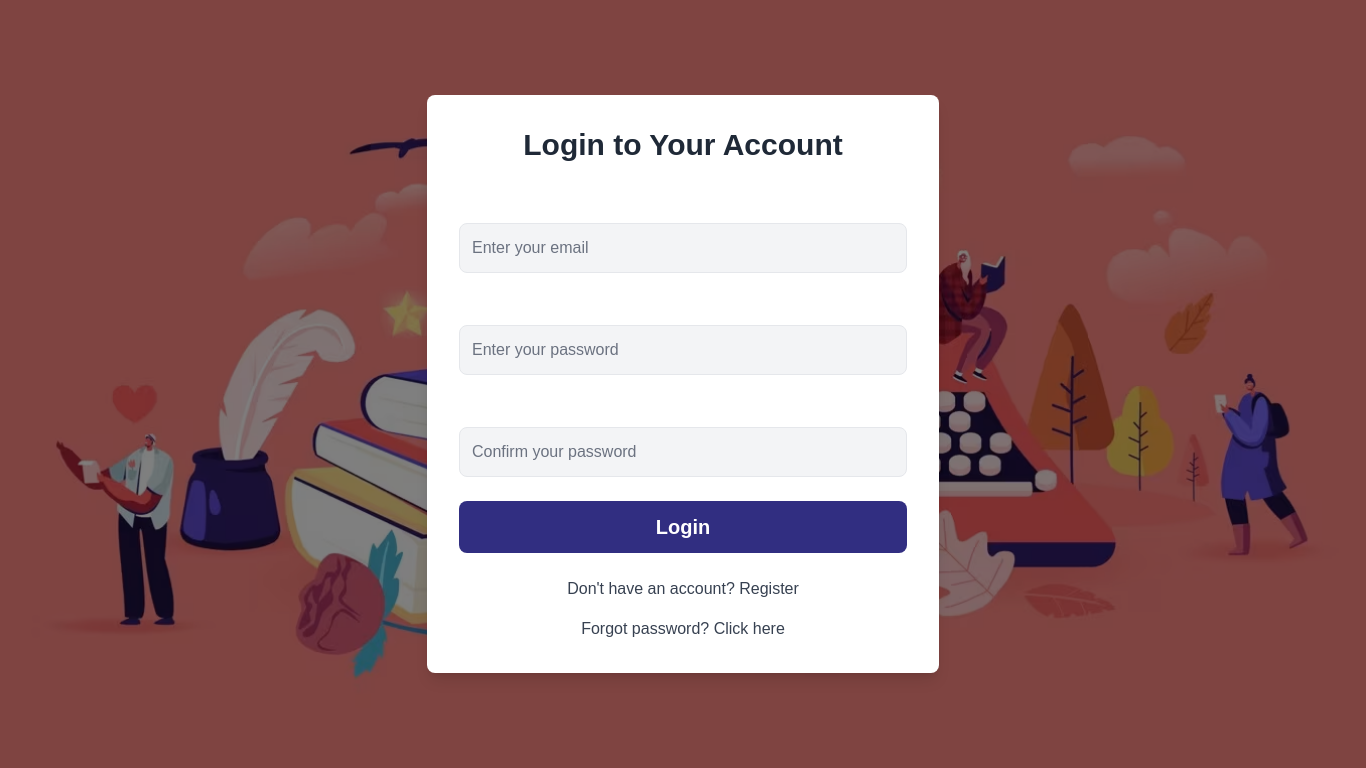
Test: LoginPage › should handle successful login
Type "test@example.com" into the field labelled "Email" at (683, 248), box [459,223,907,273]
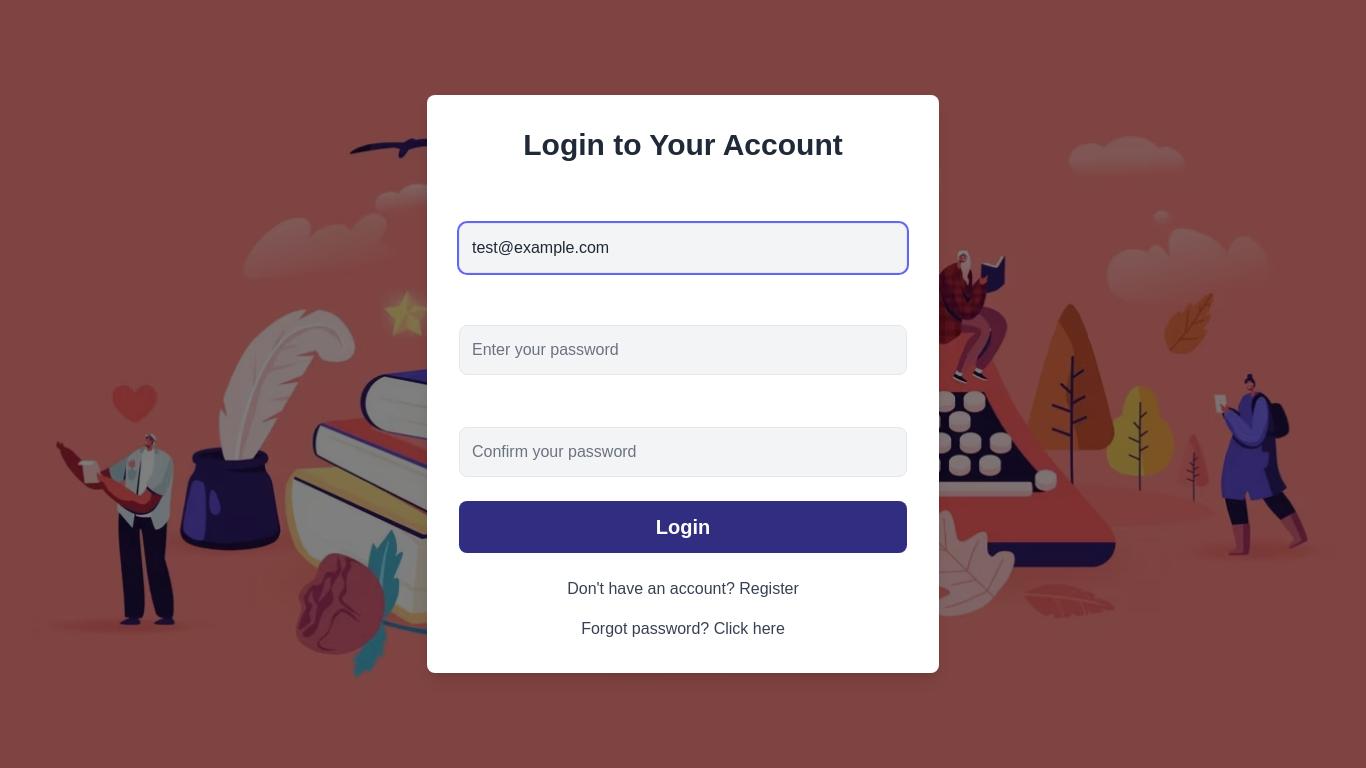
Type "password123" into the password field labelled "Password" at (683, 350), box [459,325,907,375]
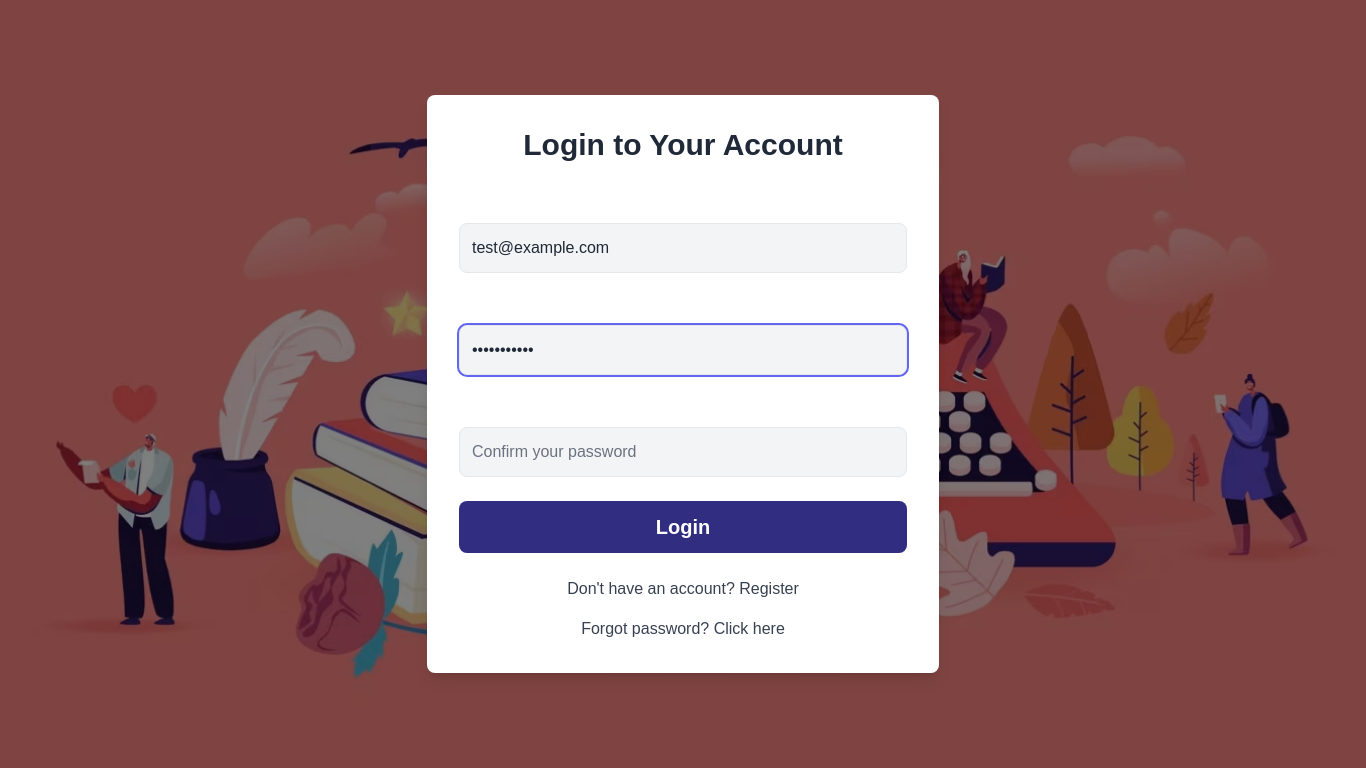
Type "password123" into the password field labelled "Confirm Password" at (683, 452), box [459,427,907,477]
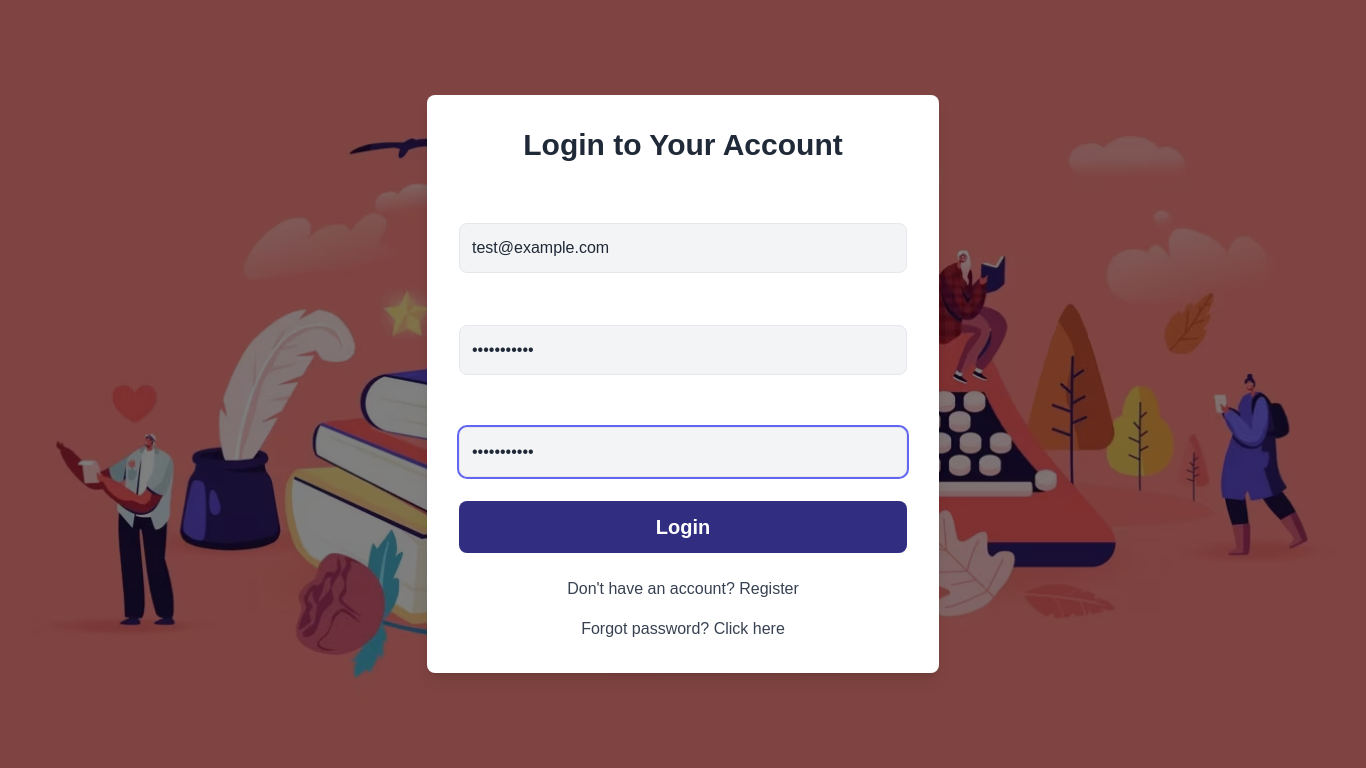
Click the button "Login" at (683, 527), box [459,501,907,553]
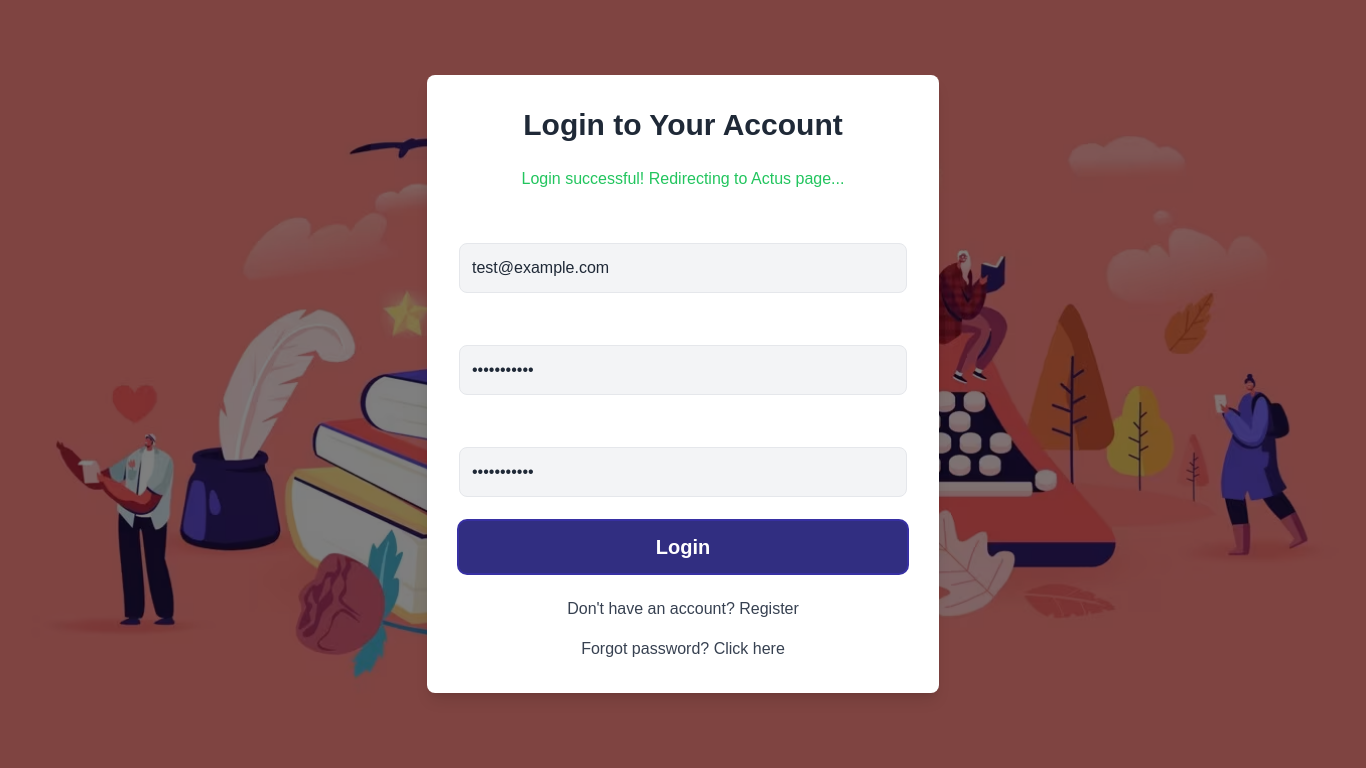
Check: the text "Login successful! Redirecting to Actus page..." is shown, box [522,170,844,187]
